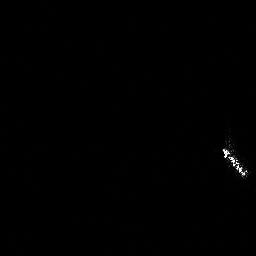ship: (219, 145, 250, 180)
